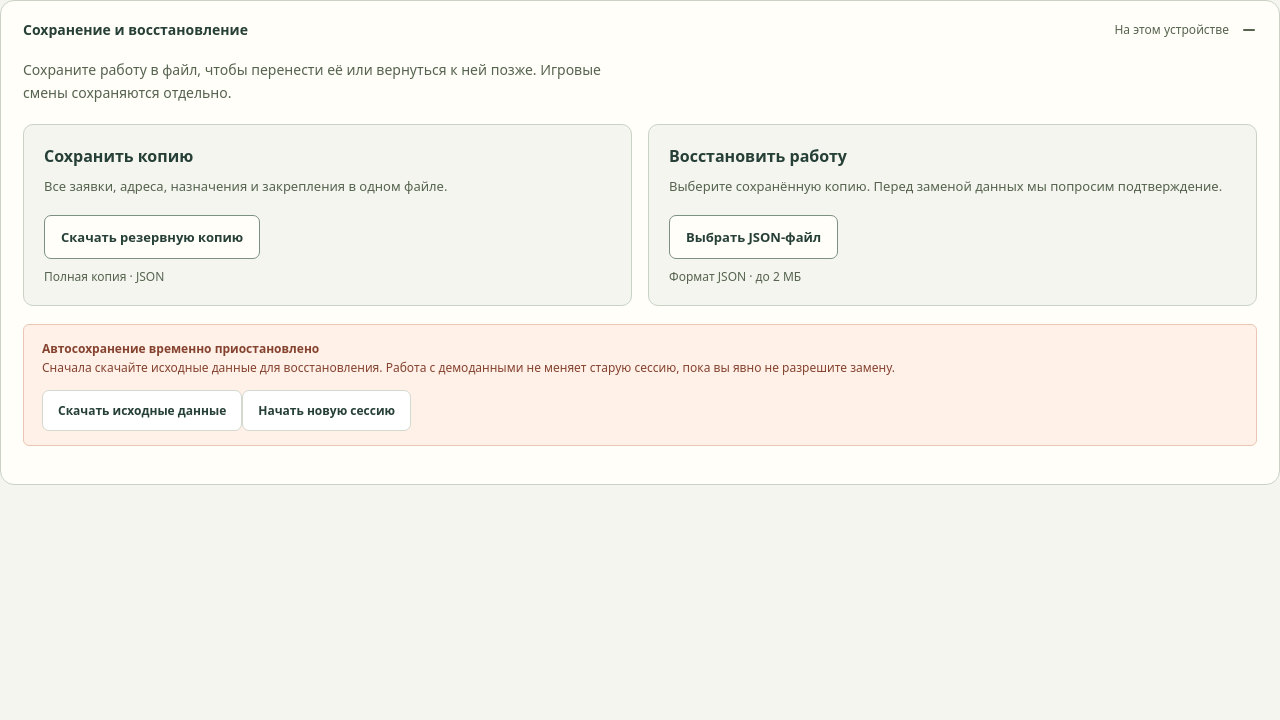
Test: отменяет замену при переполненном хранилище, сохраняя исходник
The image size is (1280, 720).
Click the button "Начать новую сессию" at (327, 411), box [242, 390, 411, 431]
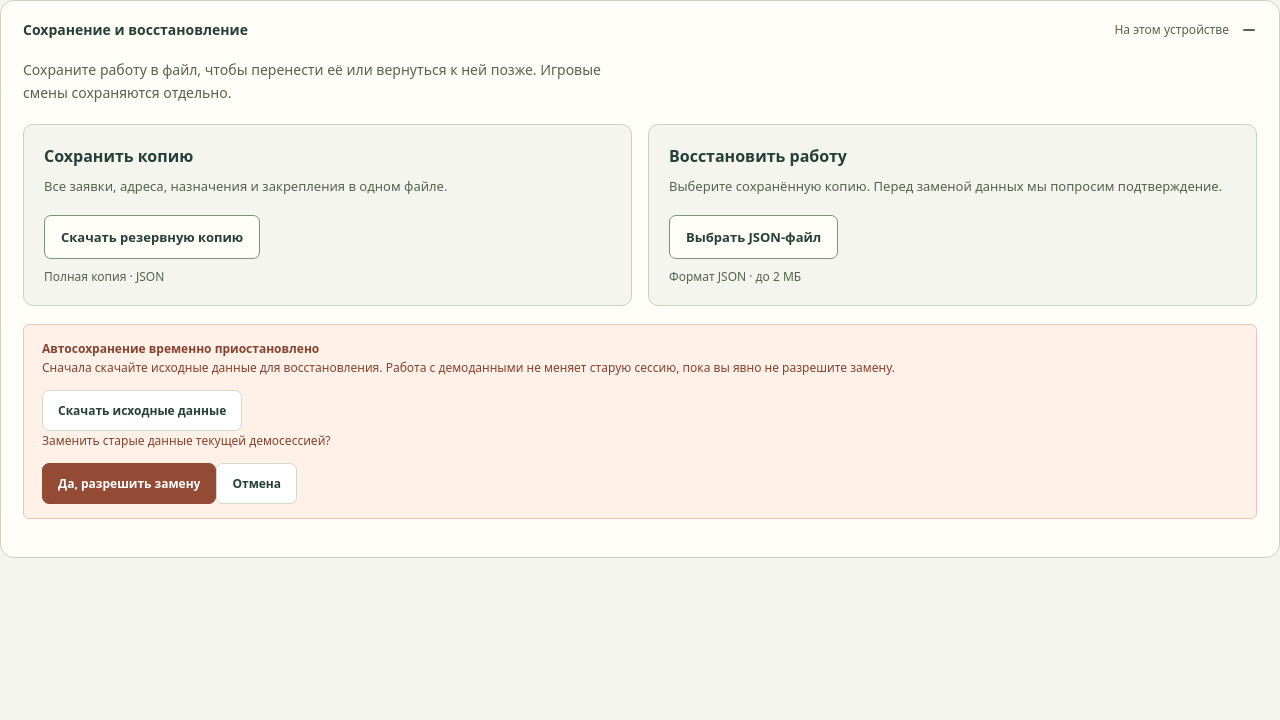
Click the button "Да, разрешить замену" at (129, 484), box [42, 463, 216, 504]
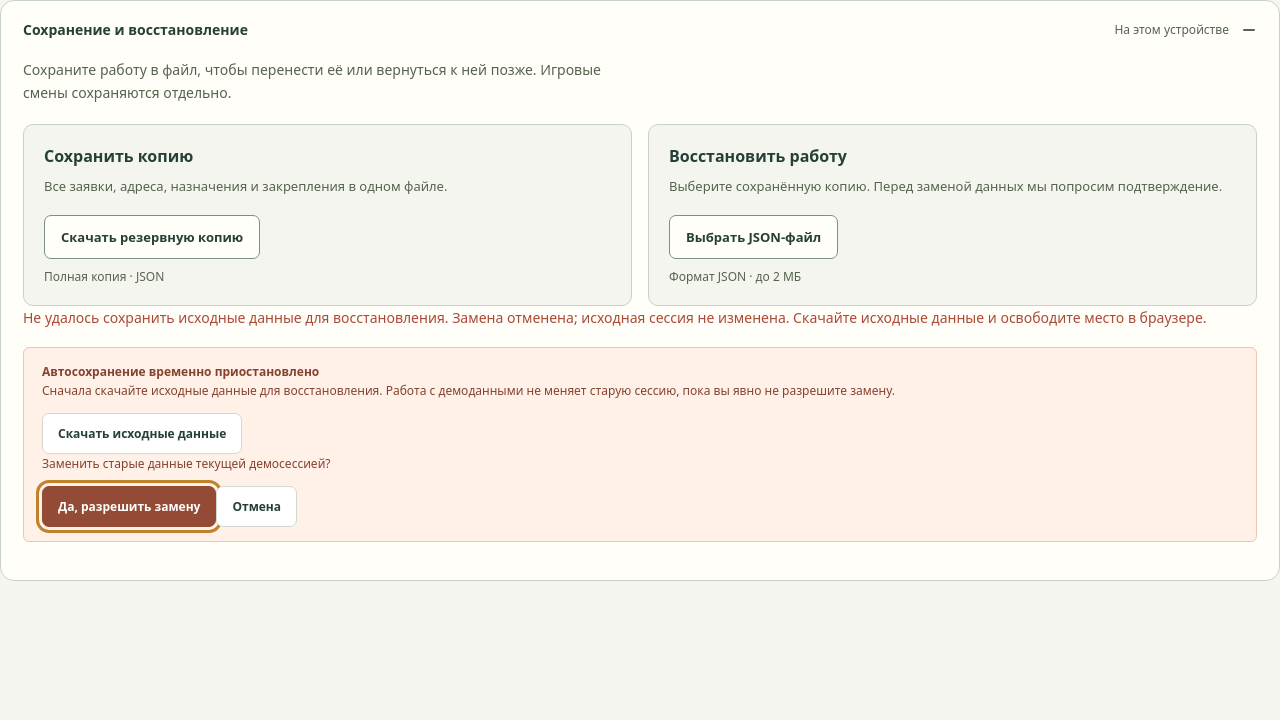
Expected: the message shows "Замена отменена", [23, 308, 1207, 327]
